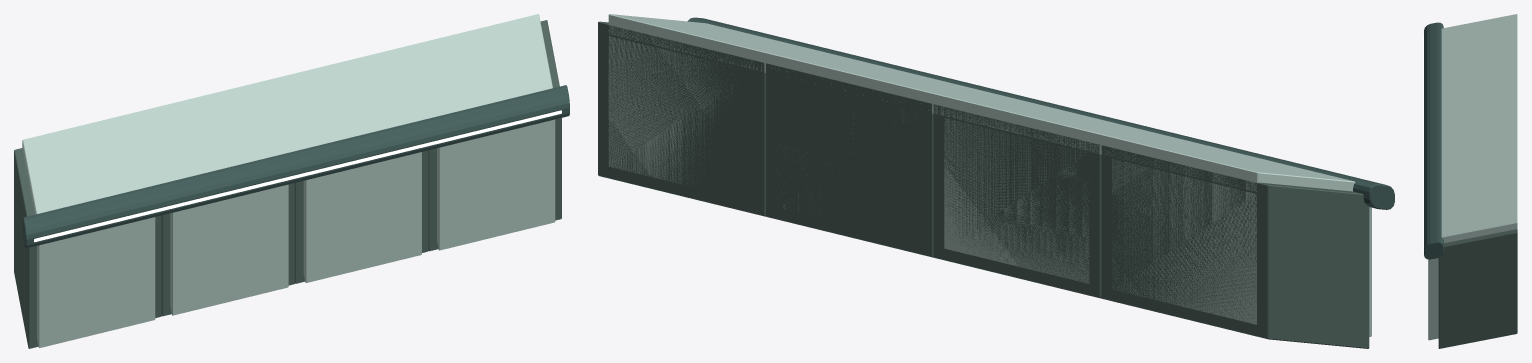
File: Terrain_TopRun4LR.gltf
3 views of the same model, side by side, from view 1: azimuth 30°, elevation 25°; view 2: azimuth 150°, elevation 25°; view 3: azimuth 270°, elevation 25° (orthographic). The views are drawn at different scales.
Visible parts, largest first — view 1: Terrain_TopRun4LR_baked; view 2: Terrain_TopRun4LR_baked; view 3: Terrain_TopRun4LR_baked.
Part boxes in pixels (<box>): Terrain_TopRun4LR_baked: <box>14,14,569,348</box>; Terrain_TopRun4LR_baked: <box>598,14,1394,348</box>; Terrain_TopRun4LR_baked: <box>1423,14,1517,348</box>.
Bounding box in the file's own units: 4.33 × 1.18 × 0.74.
